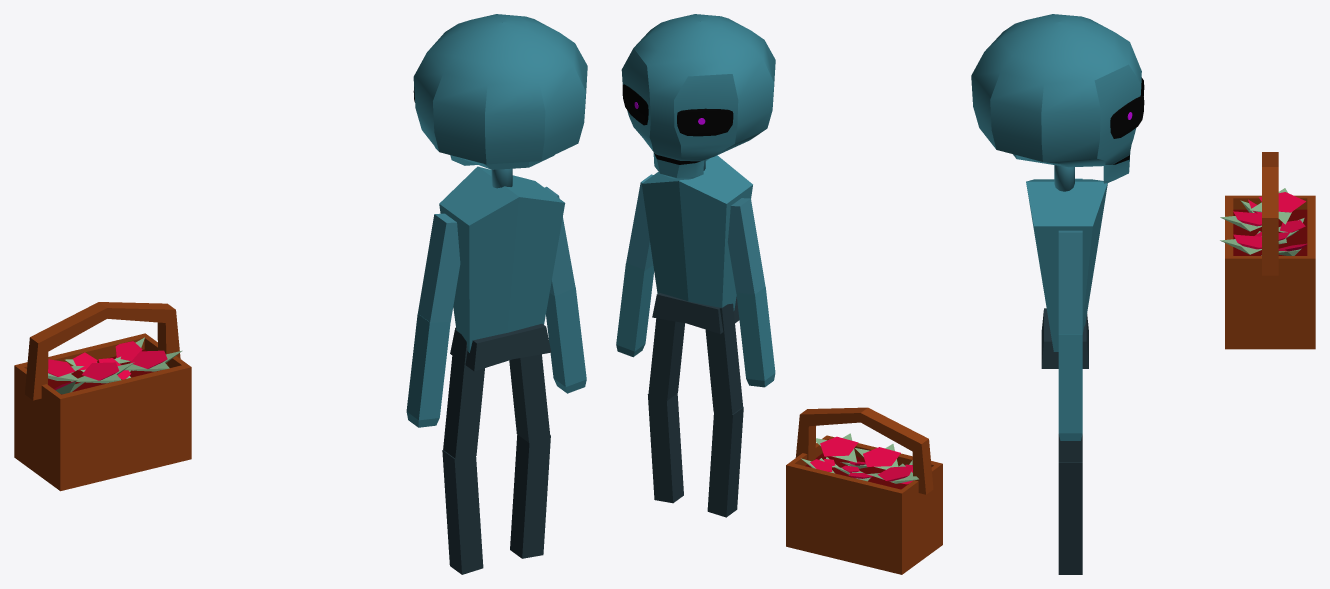
File: Садовод Зомби.fbx
The picture shows the model from 3 angles, left to right: view 1: azimuth 30°, elevation 25°; view 2: azimuth 150°, elevation 25°; view 3: azimuth 270°, elevation 25°; orthographic projection. The views are drawn at different scales.
Parts seen in each view (by area): view 1: Cube.038, Plane.003, Cube.017, Cube.012, Cube.015, Cube.013, Cube.016, Cube.014; view 2: Cube.038, Plane.003, Cube.017, Cube.012, Cube.015, Cube.013, Cube.016, Cube.014; view 3: Plane.003, Cube.038, Cube.017, Cube.012, Cube.015, Cube.016, Cube.014, Cube.013.
Boxes of the visible parts, x1,y1,x2,y2 form: Cube.038: (14, 302, 191, 491); Plane.003: (413, 14, 587, 169); Cube.017: (439, 166, 565, 352); Cube.012: (442, 434, 550, 574); Cube.015: (406, 287, 586, 427); Cube.013: (443, 329, 550, 458); Cube.016: (418, 186, 575, 322); Cube.014: (450, 323, 551, 371); Cube.038: (786, 407, 942, 574); Plane.003: (621, 14, 775, 179); Cube.017: (641, 155, 752, 310); Cube.012: (647, 393, 743, 517); Cube.015: (616, 263, 775, 387); Cube.013: (648, 292, 743, 414); Cube.016: (626, 174, 765, 294); Cube.014: (652, 293, 739, 333); Plane.003: (971, 14, 1144, 183); Cube.038: (1220, 152, 1315, 349); Cube.017: (1026, 165, 1107, 351); Cube.012: (1058, 462, 1082, 574); Cube.015: (1058, 334, 1082, 440); Cube.016: (1058, 178, 1082, 334); Cube.014: (1041, 308, 1088, 368); Cube.013: (1058, 434, 1082, 462).
Size of the model in its own units: 176 by 203 by 119.
